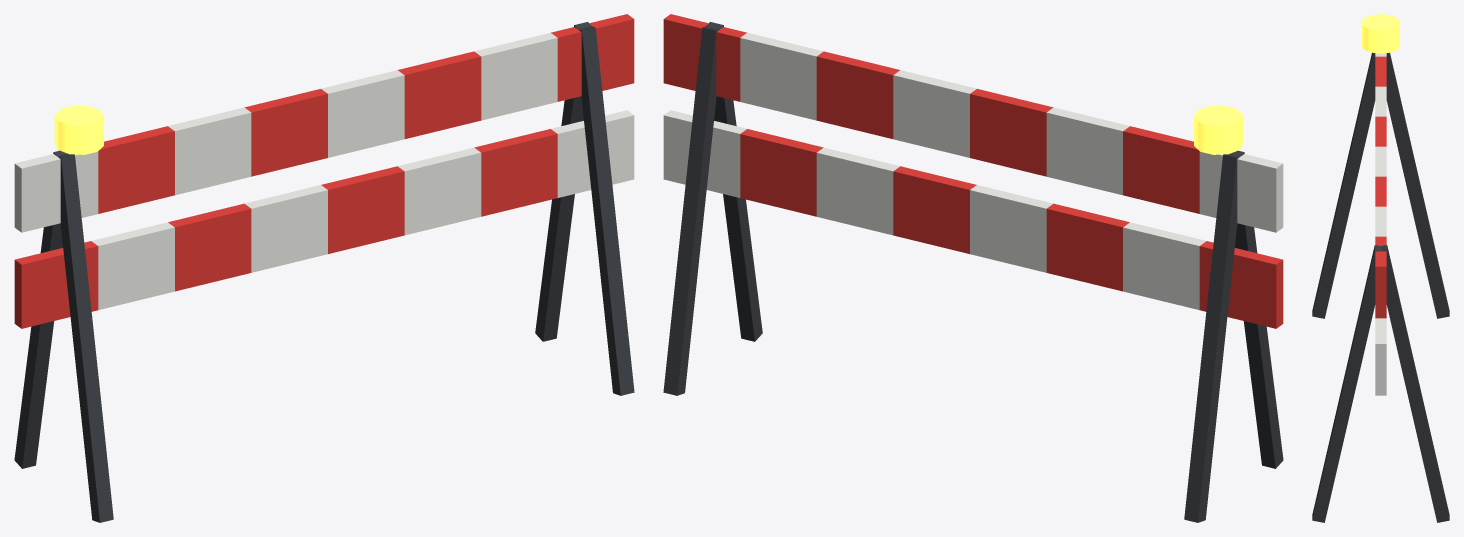
The model's file is prop_street_roadwork_barrier.glb.
3 views of the same model, side by side, from view 1: azimuth 30°, elevation 25°; view 2: azimuth 150°, elevation 25°; view 3: azimuth 270°, elevation 25° (orthographic). The views are drawn at different scales.
Parts seen in each view (by area): view 1: barrier_boards, barrier_legs, barrier_lamp; view 2: barrier_boards, barrier_legs, barrier_lamp; view 3: barrier_legs, barrier_boards, barrier_lamp.
Boxes of the visible parts, box(x1,y1,x2,y2) form: barrier_boards: box(14, 14, 634, 328); barrier_legs: box(14, 22, 634, 522); barrier_lamp: box(54, 105, 103, 154); barrier_boards: box(663, 14, 1283, 328); barrier_legs: box(663, 22, 1283, 522); barrier_lamp: box(1194, 105, 1243, 154); barrier_legs: box(1312, 52, 1449, 522); barrier_boards: box(1375, 53, 1386, 395); barrier_lamp: box(1362, 14, 1399, 53).
Size of the model in its own units: 2 by 1.16 by 0.484.
